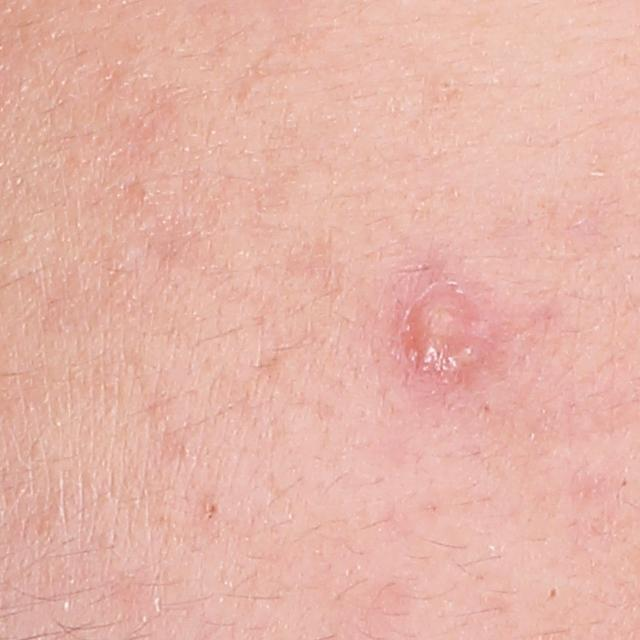comedo: (202, 495, 226, 518), (545, 581, 562, 601)
